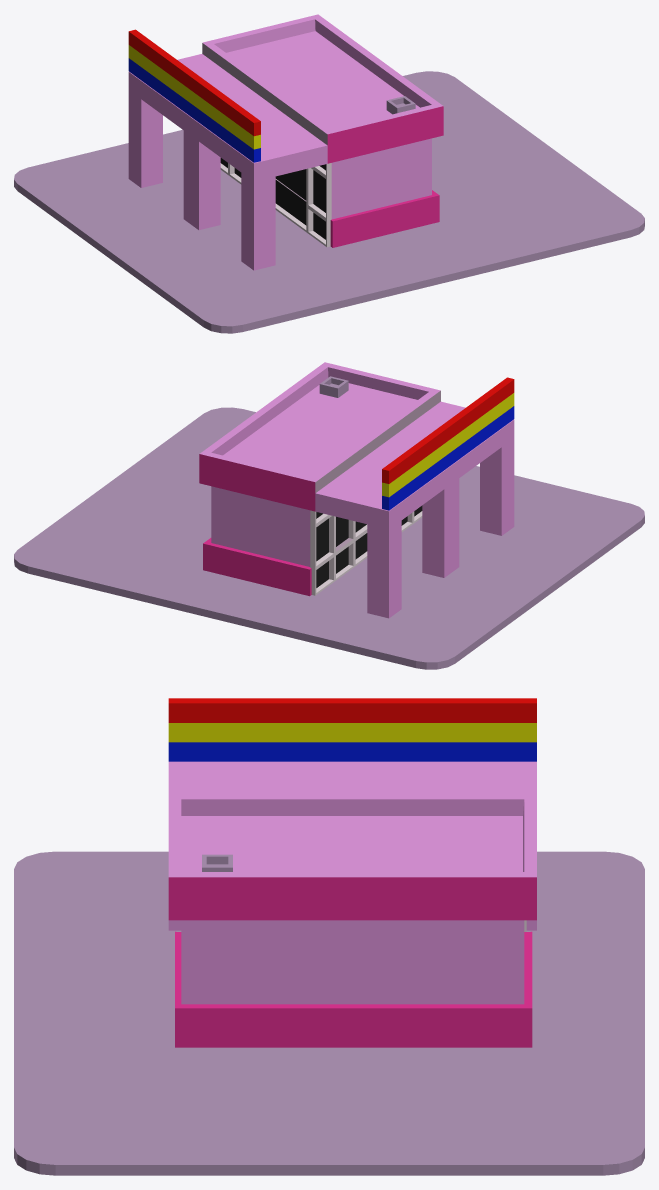
The model's file is supermiau.fbx.
3 renders of one model, top to bottom at view 1: azimuth 30°, elevation 25°; view 2: azimuth 150°, elevation 25°; view 3: azimuth 270°, elevation 25°, orthographic. The views are drawn at different scales.
Parts seen in each view (by area): view 1: Cube.003; view 2: Cube.003; view 3: Cube.003.
Part boxes in pixels (x1,y1,x2,y2): Cube.003: (14,14,644,333); Cube.003: (14,362,644,669); Cube.003: (14,698,644,1175).
Bounding box in the file's own units: 1263 × 427 × 1075.
